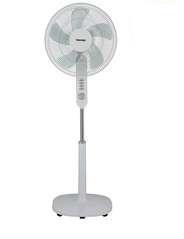fan: (42, 0, 134, 228)
